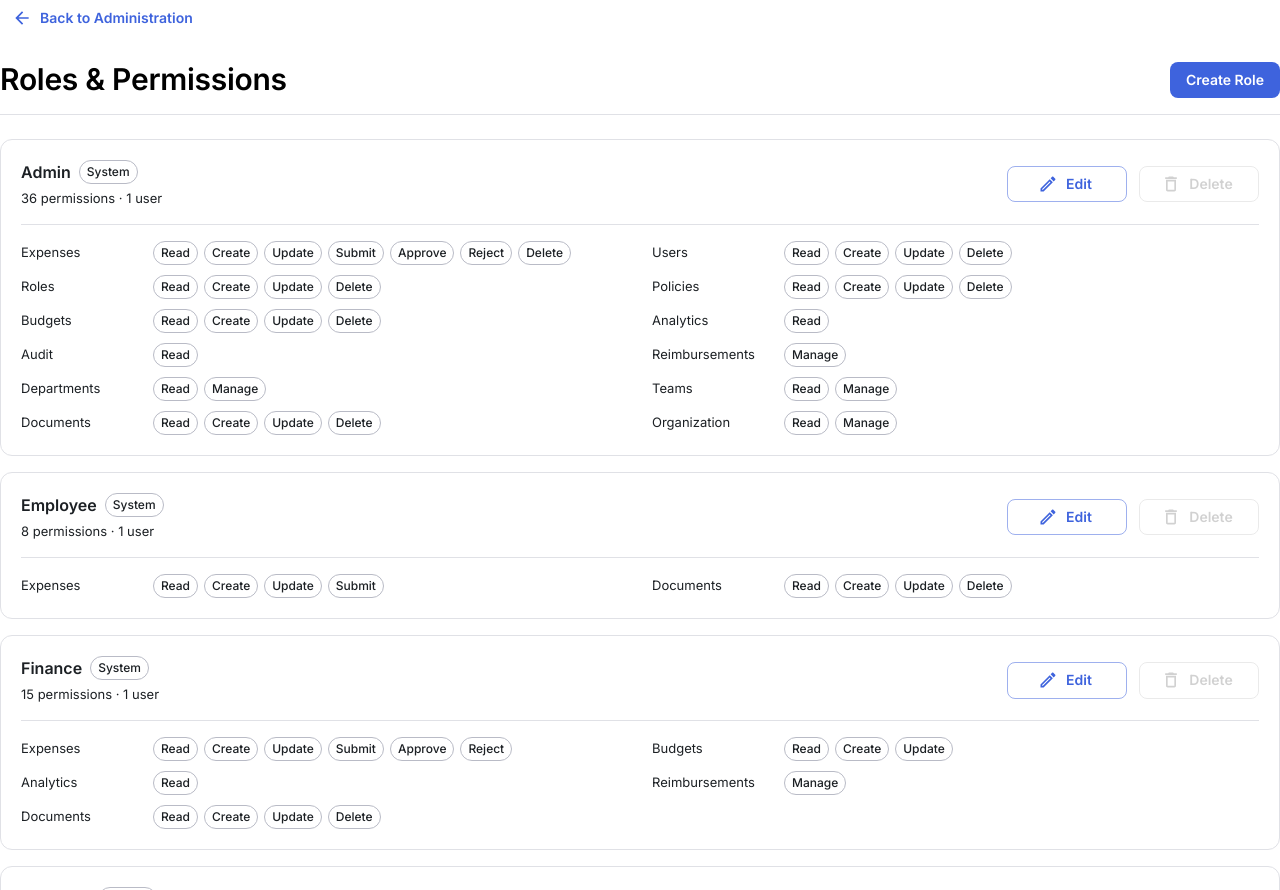
Scenario: RolesPage create role › asks for at least one permission before creating a role
Click the button "Create Role": (1225, 80) x1=1170 y1=62 x2=1279 y2=98
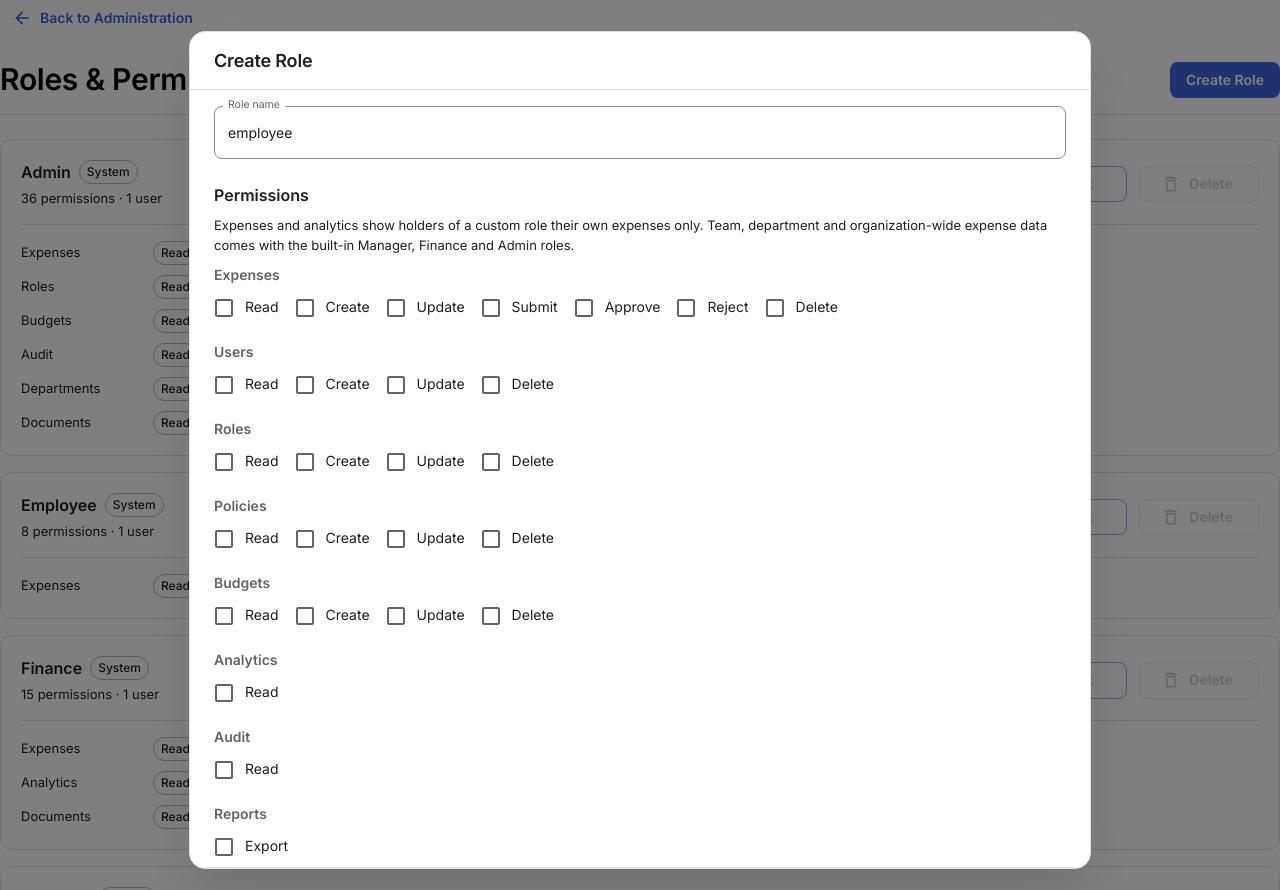
In the field labelled "Role name": (640, 133) x1=214 y1=106 x2=1066 y2=159, type "observer"
(page scrolled)
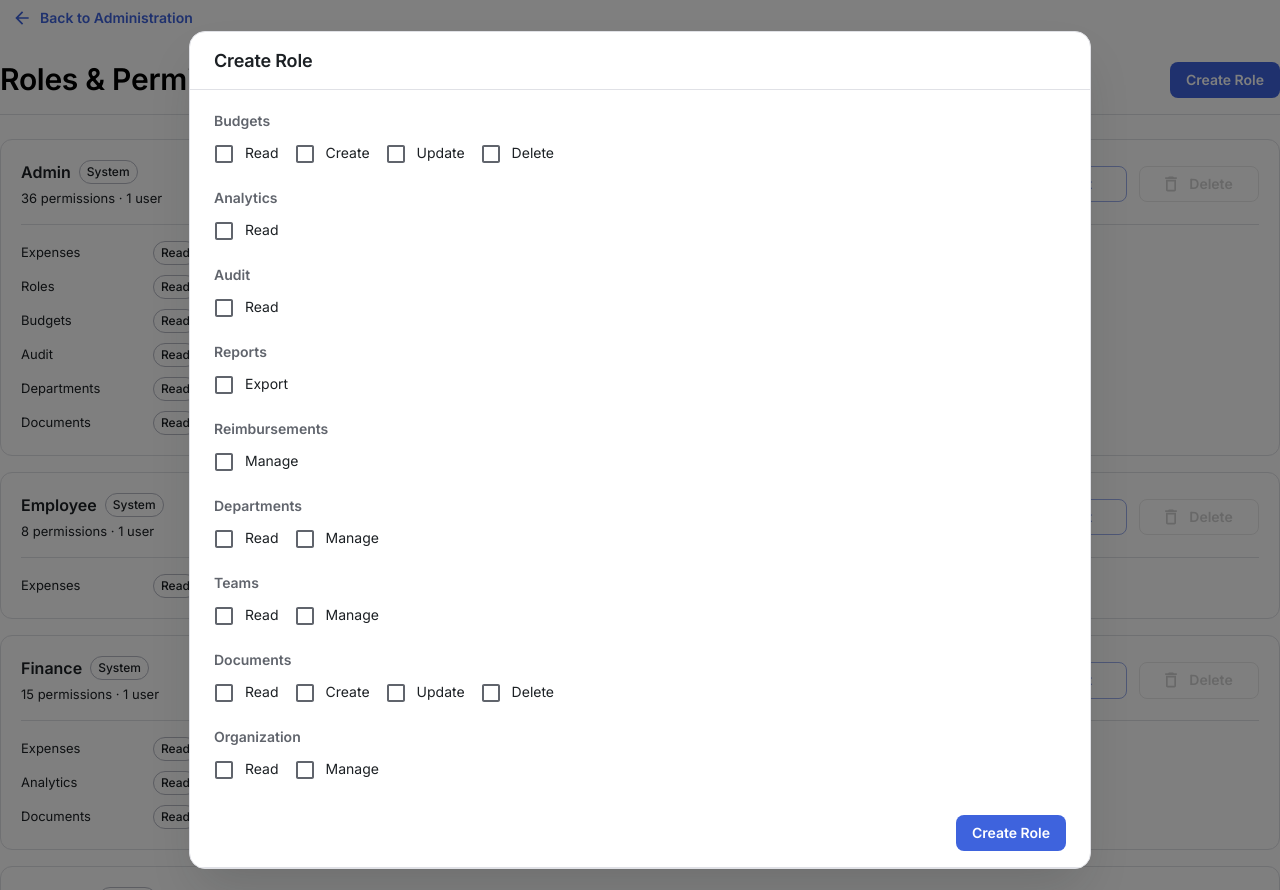
Click the button "Create Role": (1011, 833) x1=956 y1=815 x2=1066 y2=851
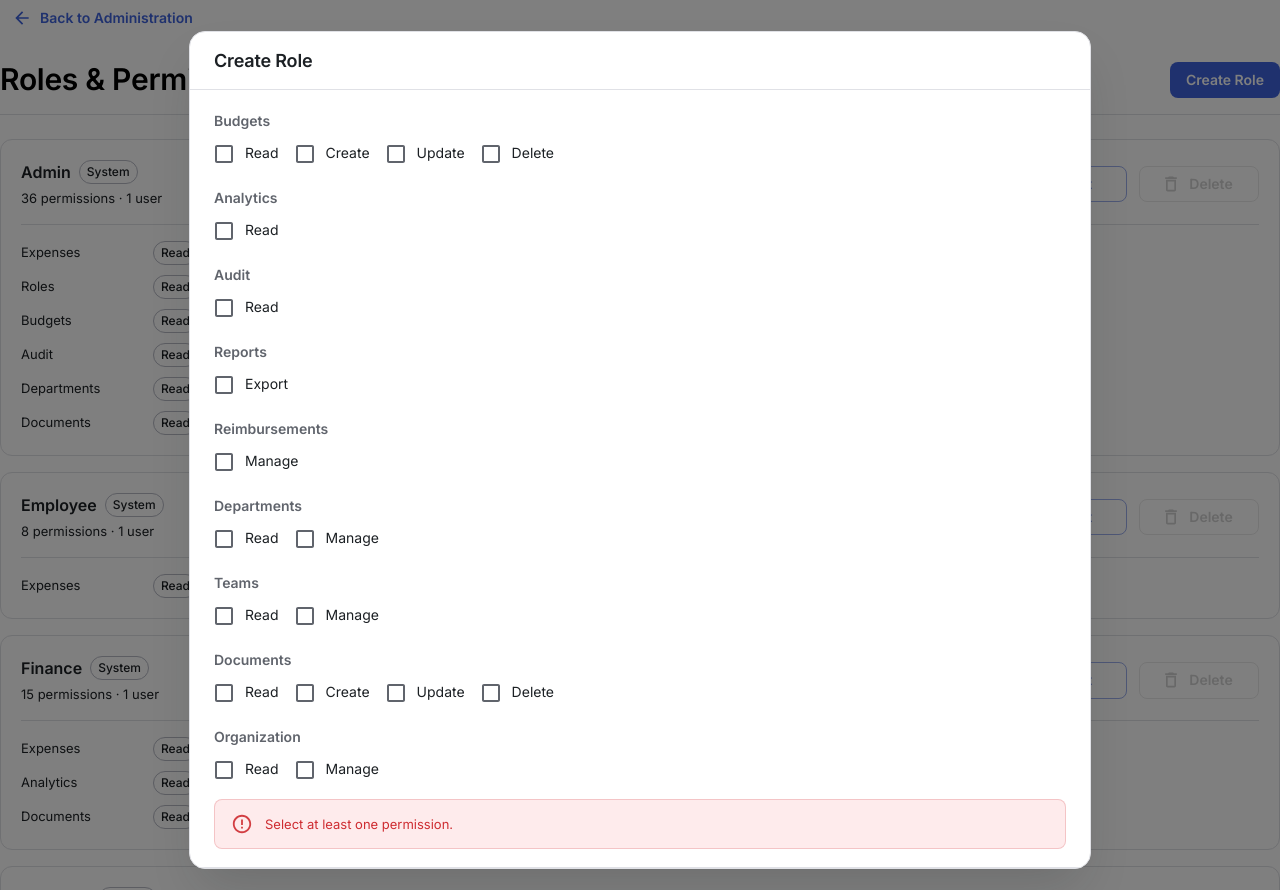
Now the text "Select at least one permission." is shown, box x1=265 y1=816 x2=453 y2=832
